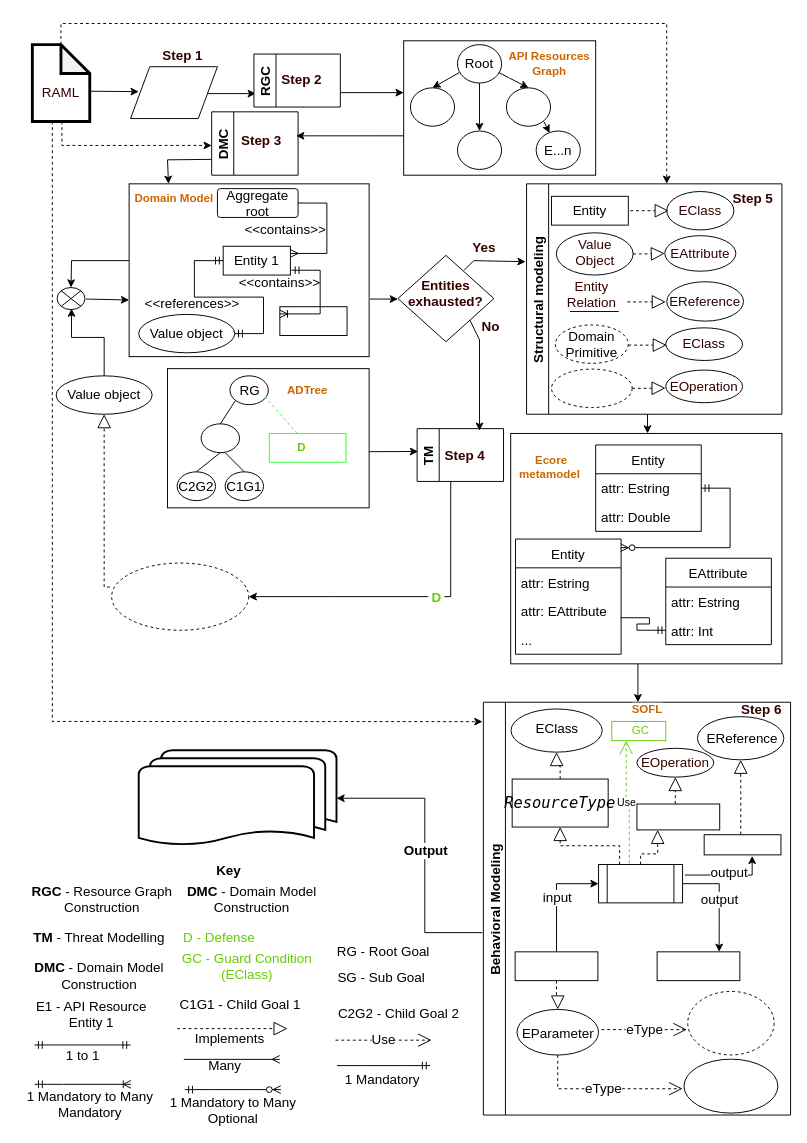
This 807x1143 diagram has some shape labels left out. Each missing label, with the centre of its shape:
"D = Domain primitive as security invariant" goes at point (180, 596).
"E 2" goes at point (528, 106).
"E 3" goes at point (479, 149).
"E1" goes at point (432, 106).
"EClassifier (Domain Primitive)" goes at point (730, 1022).
"Entity 2" goes at point (313, 321).
"HTTP verb" goes at point (591, 388).
"MediaType" goes at point (698, 966).
"MethodType" goes at point (678, 816).
"Parameter" goes at point (556, 966).
"Primitive Data Type" goes at point (730, 1085).
"RAML Parser" goes at point (173, 92).
"RelationType" goes at point (742, 844).
"RESTful Formal Security Aware SOFL Specifications" goes at point (237, 798).
"SG" goes at point (220, 438).
"SOFL Process" goes at point (640, 883).
